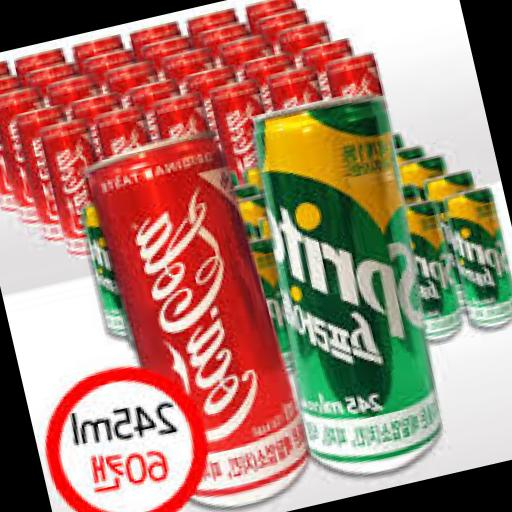Coca: (76, 113, 323, 512)
